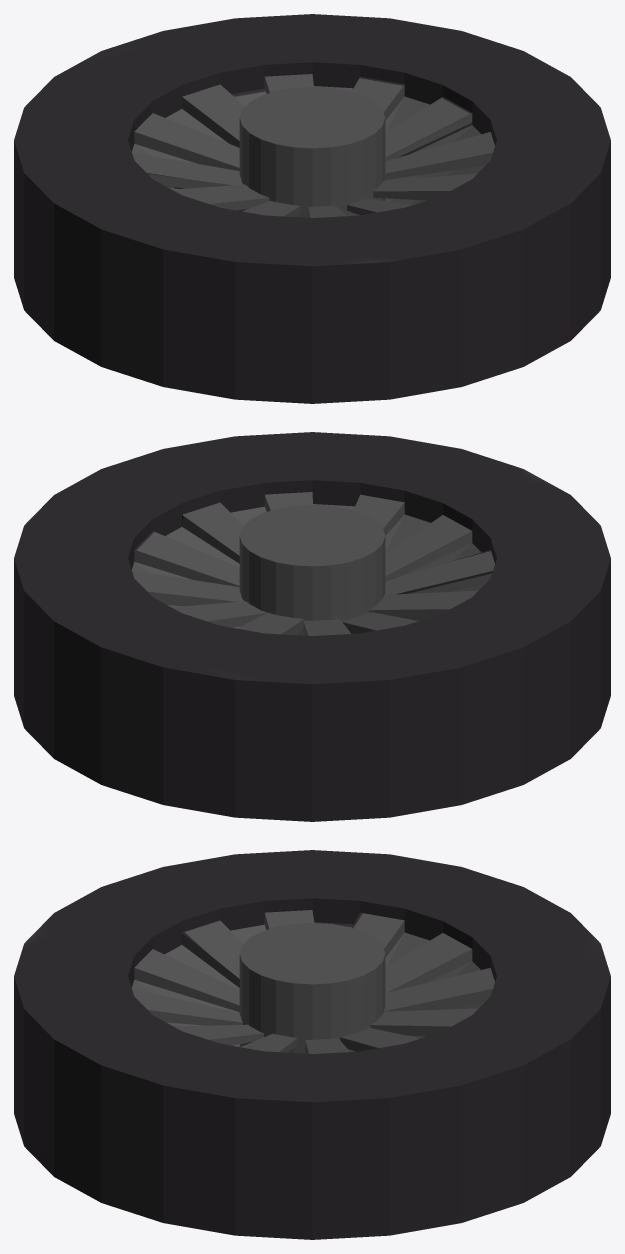
File: Debris_2.glb
The picture shows the model from 3 angles, top to bottom: view 1: azimuth 30°, elevation 25°; view 2: azimuth 150°, elevation 25°; view 3: azimuth 270°, elevation 25°; orthographic projection.
Parts seen in each view (by area): view 1: Front_Left_Wheel; view 2: Front_Left_Wheel; view 3: Front_Left_Wheel.
Boxes of the visible parts, <box> form: Front_Left_Wheel: <box>14,14,610,403</box>; Front_Left_Wheel: <box>14,432,610,821</box>; Front_Left_Wheel: <box>14,850,610,1239</box>.
Size of the model in its own units: 1.02 by 0.3027 by 1.02.
1 material, 1 textured.
